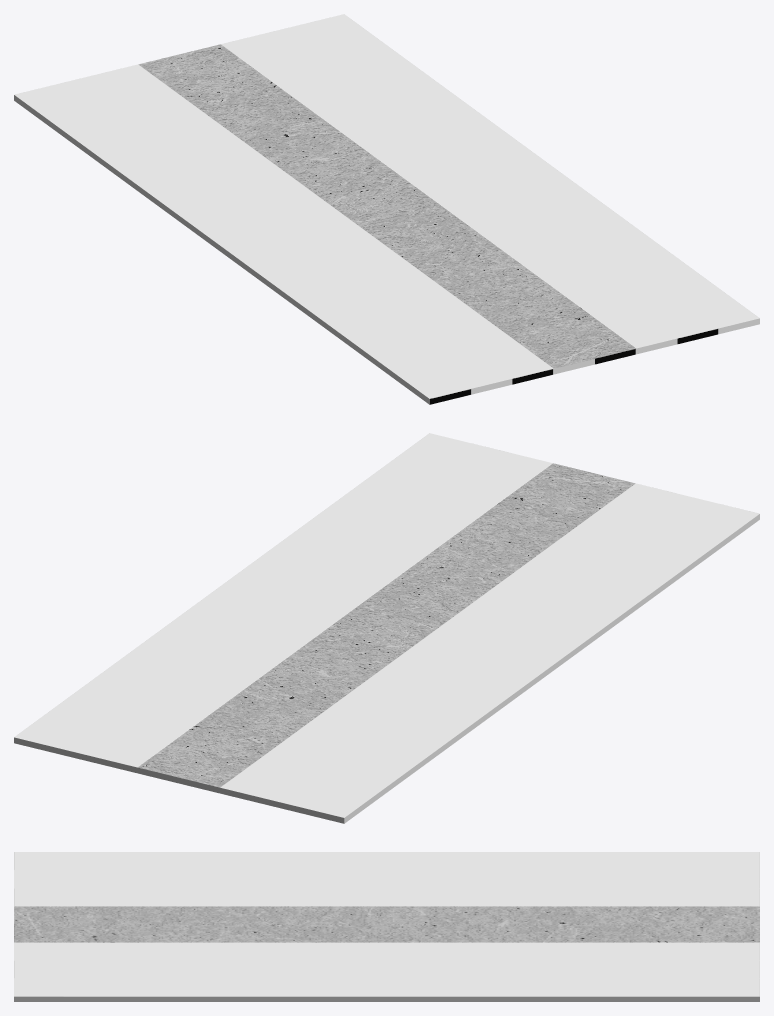
The model's file is ChaosZooCityMapFootpath02.fbx.
3 renders of one model, top to bottom at view 1: azimuth 30°, elevation 25°; view 2: azimuth 150°, elevation 25°; view 3: azimuth 270°, elevation 25°, orthographic. The views are drawn at different scales.
Parts seen in each view (by area): view 1: pCube42; view 2: pCube42; view 3: pCube42.
Part boxes in pixels (x1,y1,x2,y2): pCube42: (14,14,759,404); pCube42: (14,433,759,823); pCube42: (14,852,759,1001).
Size of the model in its own units: 114 by 1.95 by 249.
